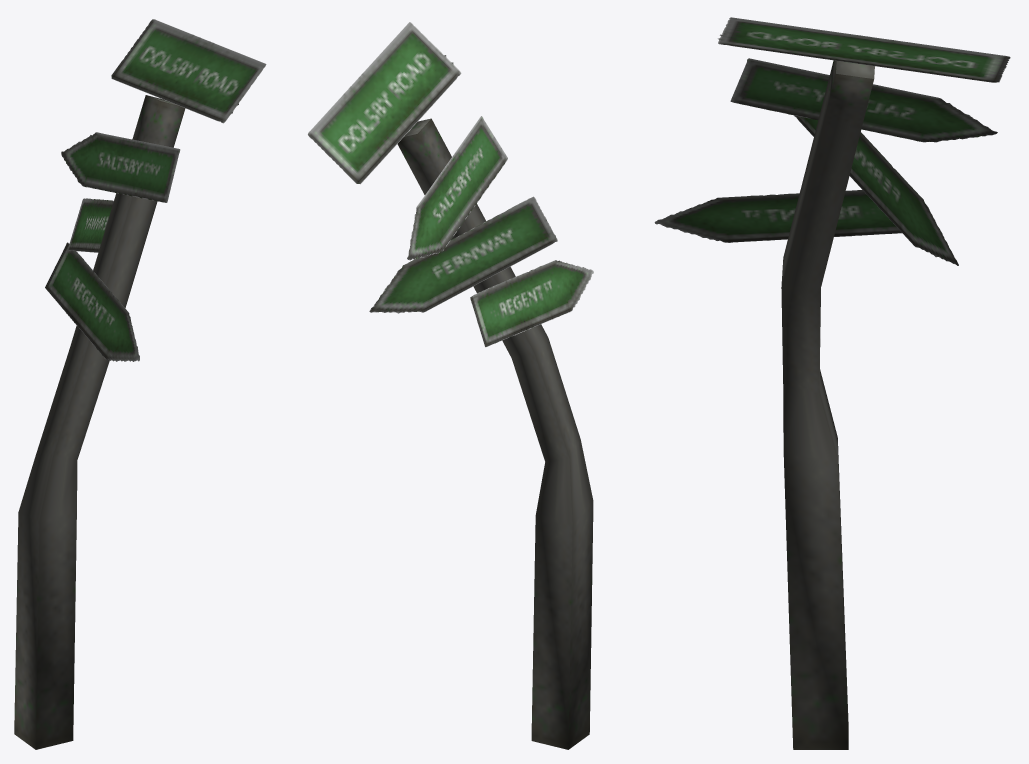
Rendered from signpost2.fbx.
The picture shows the model from 3 angles, left to right: view 1: azimuth 30°, elevation 25°; view 2: azimuth 150°, elevation 25°; view 3: azimuth 270°, elevation 25°; orthographic projection. The views are drawn at different scales.
Parts seen in each view (by area): view 1: signpost2; view 2: signpost2; view 3: signpost2.
Boxes of the visible parts, x1,y1,x2,y2 form: signpost2: (14,19,266,749); signpost2: (308,22,593,749); signpost2: (654,17,1010,749).
Bounding box in the file's own units: 135 × 165 × 403.
1 material, 1 textured.
